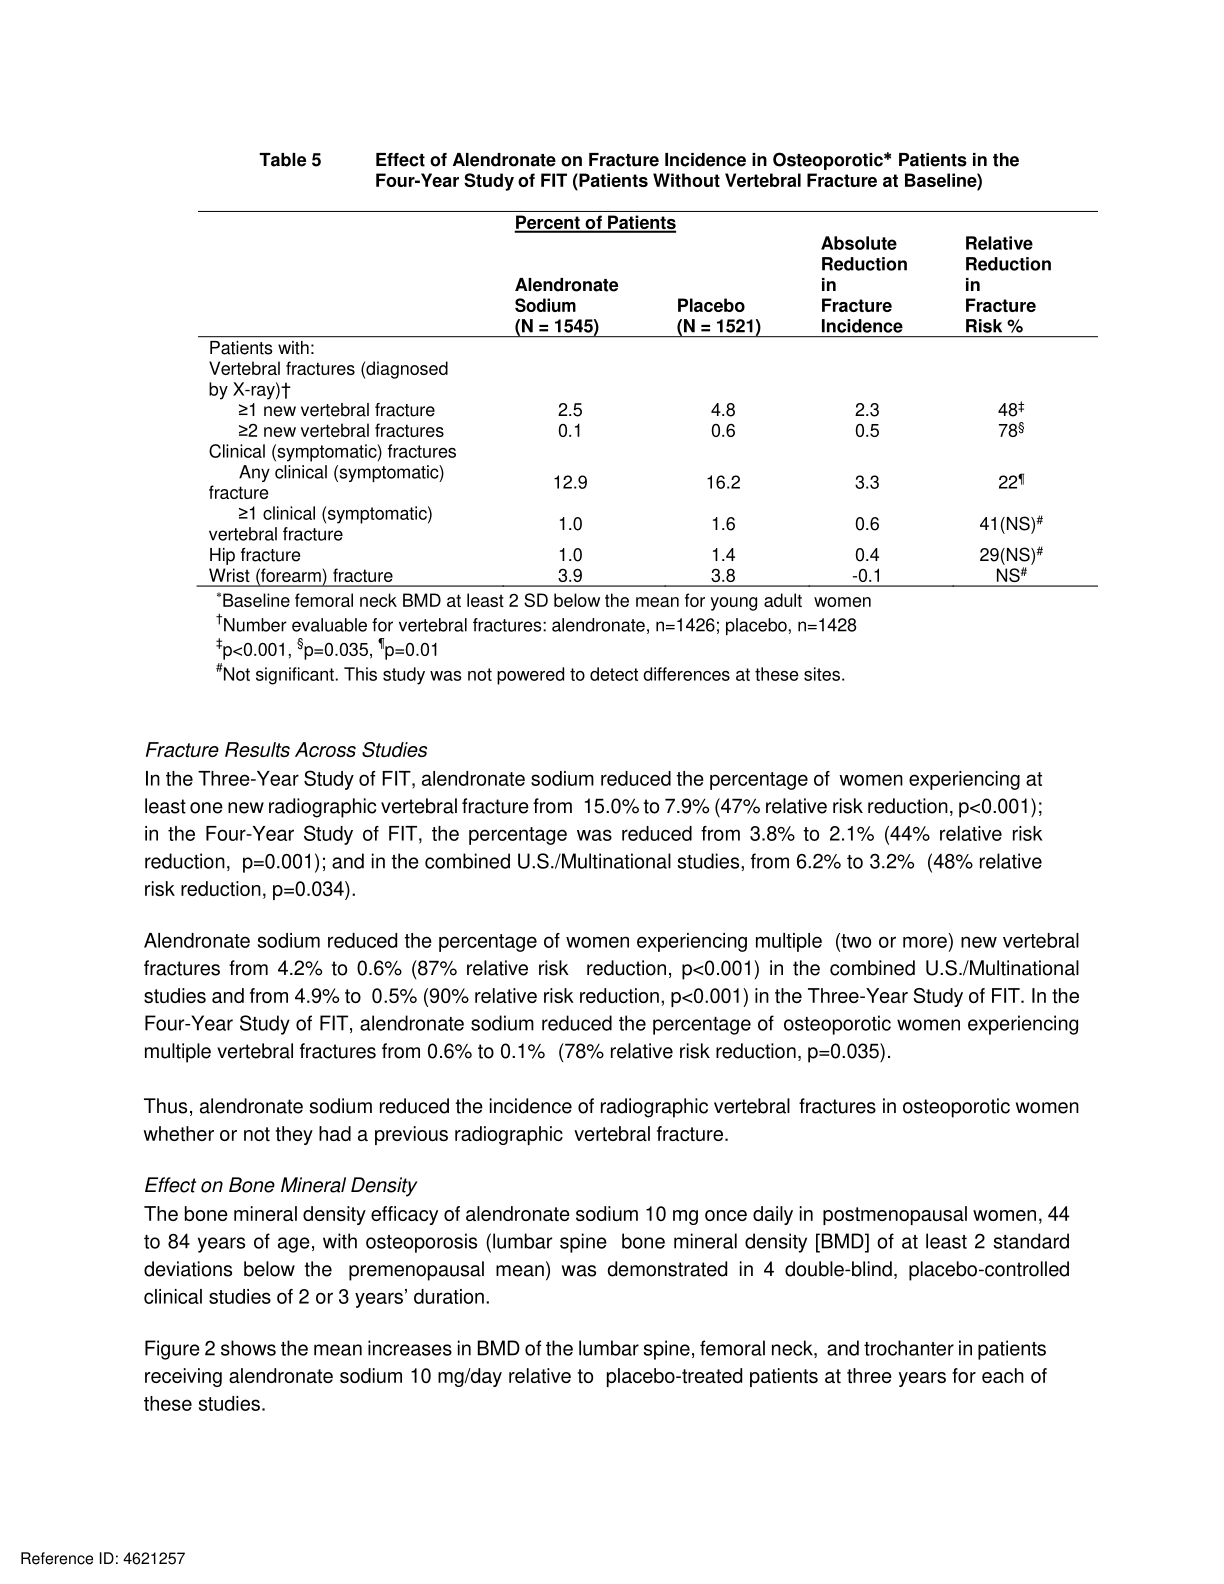partial_lined_merged_cells: (195, 204, 1102, 590)
